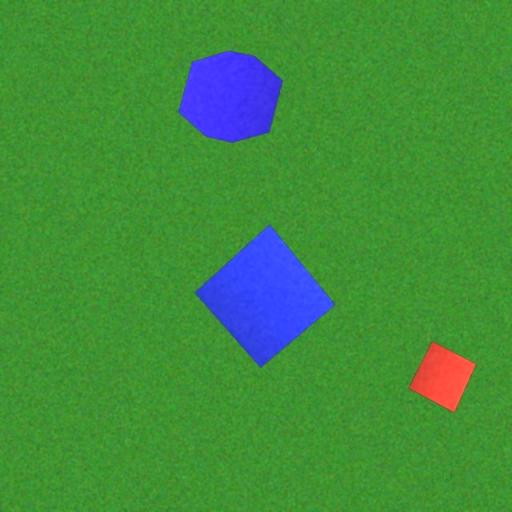BLUE_SQUARE: (194, 223, 336, 369)
RED_SQUARE: (407, 340, 477, 414)
